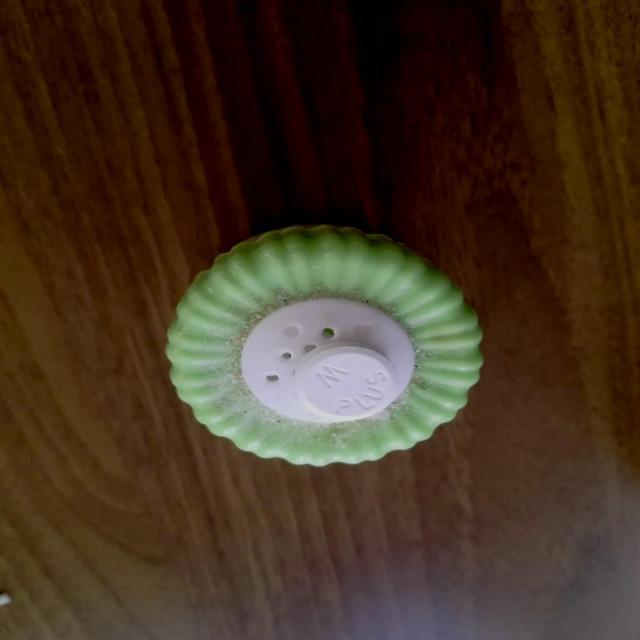pill: (294, 344, 406, 424)
